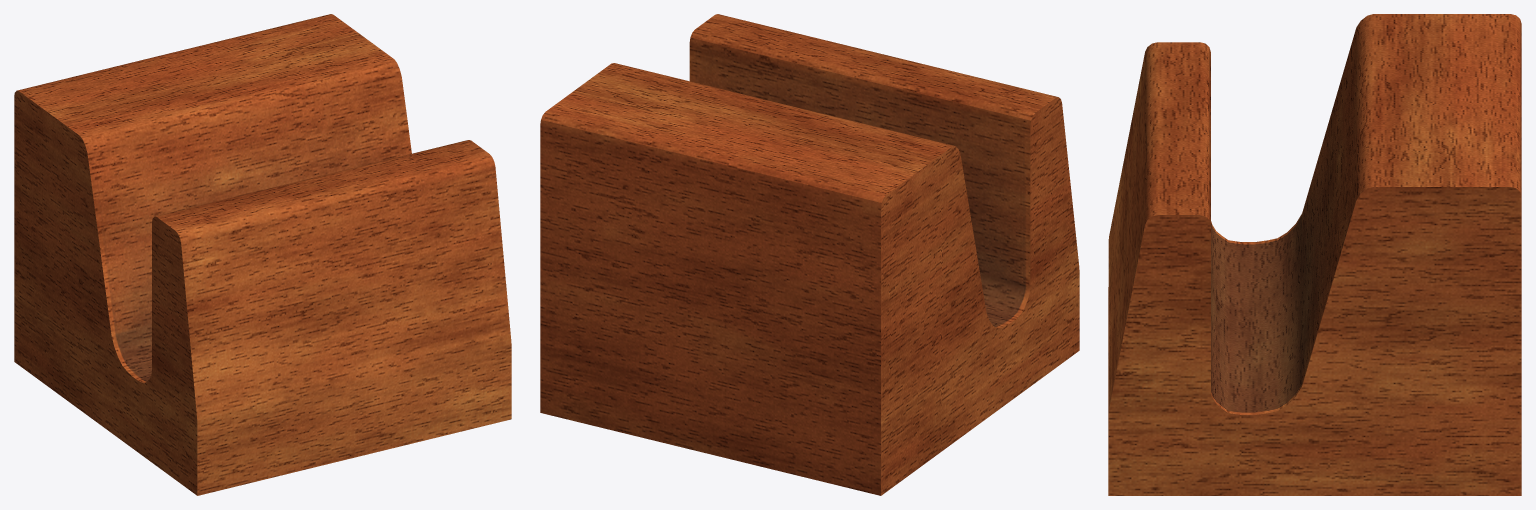
3 renders of one model, left to right at view 1: azimuth 30°, elevation 25°; view 2: azimuth 150°, elevation 25°; view 3: azimuth 270°, elevation 25°, orthographic. The views are drawn at different scales.
Visible parts, largest first — view 1: Plane_low; view 2: Plane_low; view 3: Plane_low.
Part boxes in pixels (bbox=[...]): Plane_low: bbox=[14, 14, 511, 495]; Plane_low: bbox=[540, 14, 1079, 495]; Plane_low: bbox=[1108, 14, 1521, 495].
Bounding box in the file's own units: 0.12 × 0.1 × 0.1212.
Materials: 1 (1 with a texture image).
